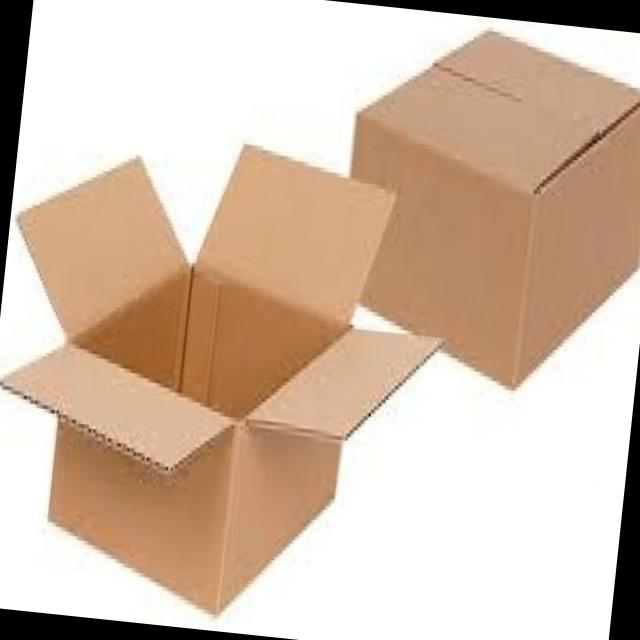cardboard paper: (0, 140, 447, 617), (350, 29, 640, 382)
